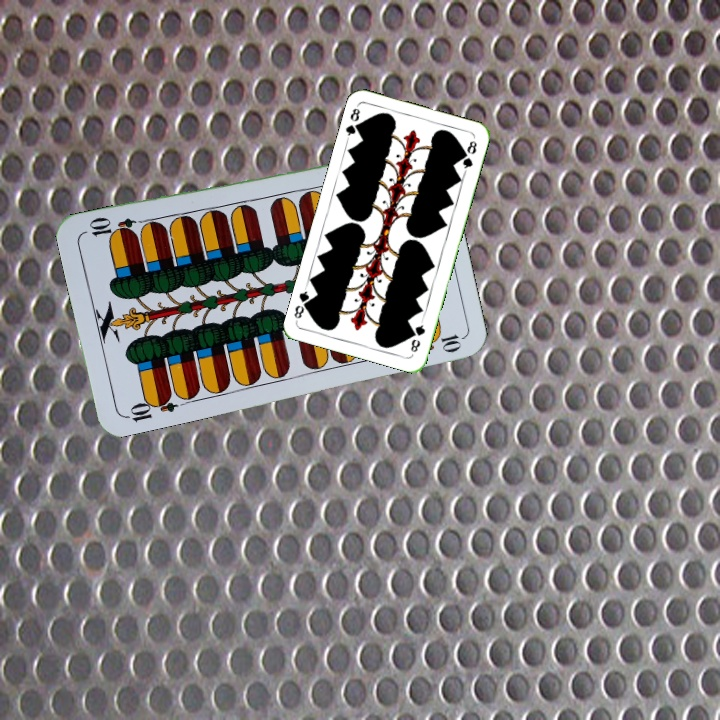E10: (121, 390, 179, 425)
G8: (342, 102, 364, 142), (407, 317, 428, 355)
